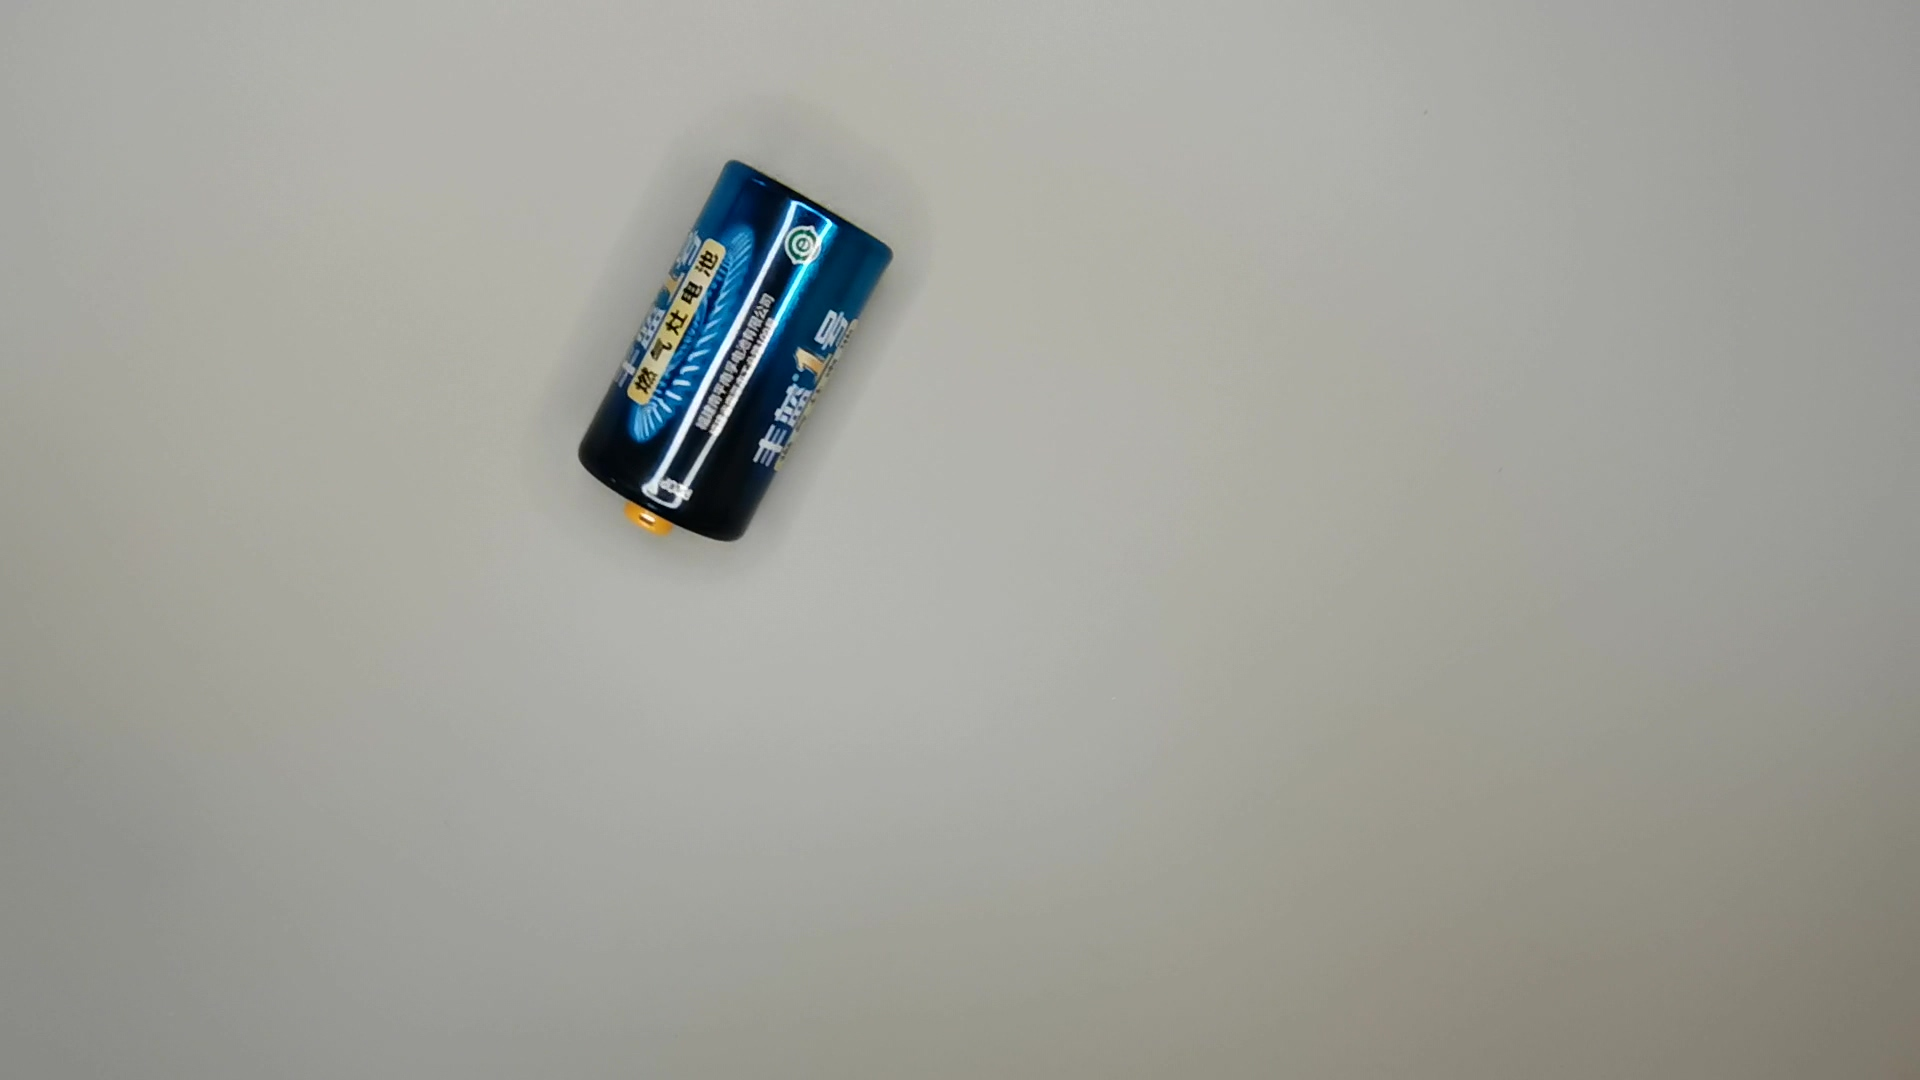battery: (570, 153, 899, 549)
